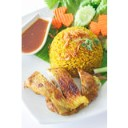briyani: (49, 28, 100, 114)
